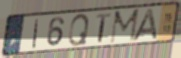6: (47, 16, 65, 47)
A: (131, 8, 159, 42)
I: (31, 18, 40, 50)
M: (109, 7, 141, 45)
Q: (67, 13, 91, 48)
T: (95, 12, 112, 44)
